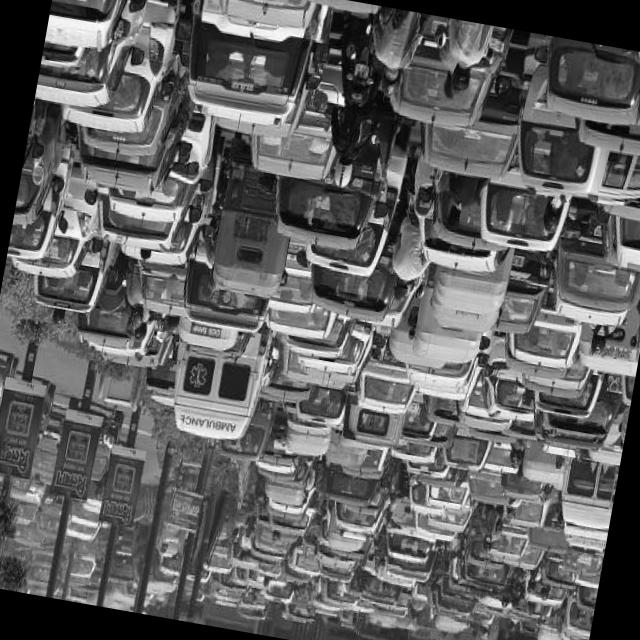ambulance: (174, 404, 243, 439), (178, 350, 216, 400)
